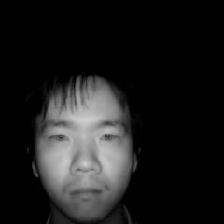sad: (20, 62, 143, 224)
